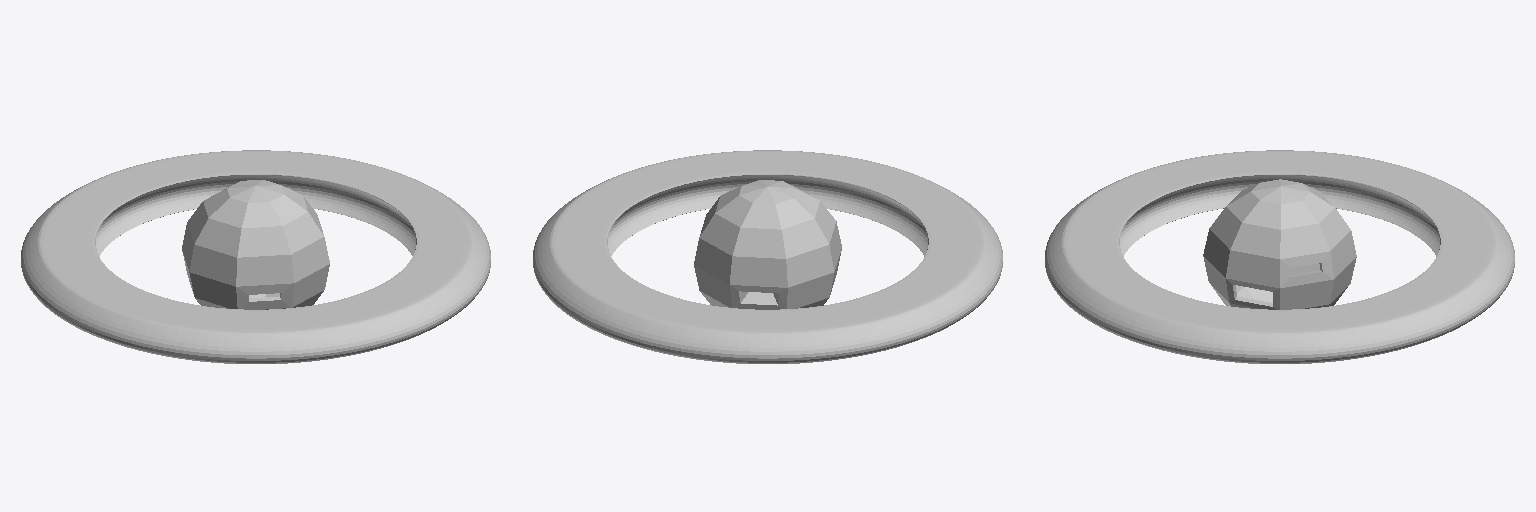
File: eye.obj
The picture shows the model from 3 angles: view 1: azimuth 30°, elevation 25°; view 2: azimuth 150°, elevation 25°; view 3: azimuth 270°, elevation 25°; orthographic projection.
Parts seen in each view (by area): view 1: Circle, Sphere; view 2: Circle, Sphere; view 3: Circle, Sphere.
Boxes of the visible parts, x1=… form: Circle: x1=21, y1=150, x2=490, y2=363; Sphere: x1=182, y1=180, x2=329, y2=309; Circle: x1=533, y1=150, x2=1002, y2=363; Sphere: x1=694, y1=180, x2=841, y2=309; Circle: x1=1045, y1=150, x2=1514, y2=363; Sphere: x1=1203, y1=179, x2=1356, y2=309.
Bounding box in the file's own units: 6.68 × 2.18 × 6.68.